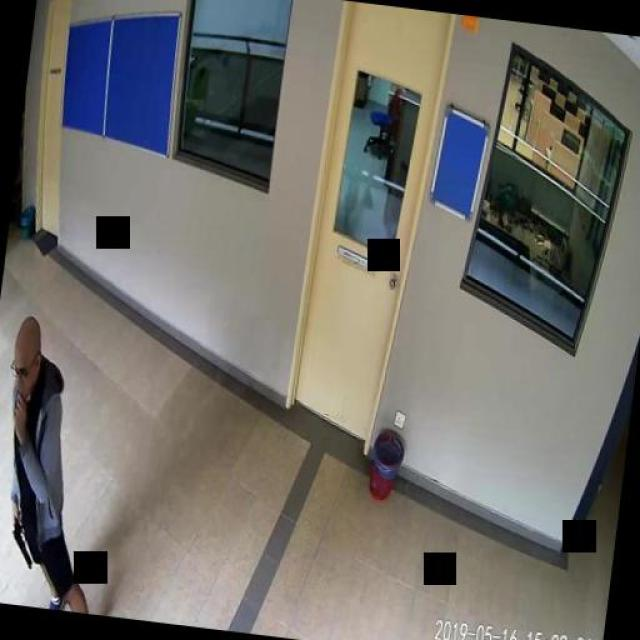gun: (7, 518, 35, 564)
